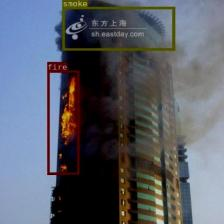fire: (46, 69, 80, 174)
smoke: (62, 6, 174, 50)
